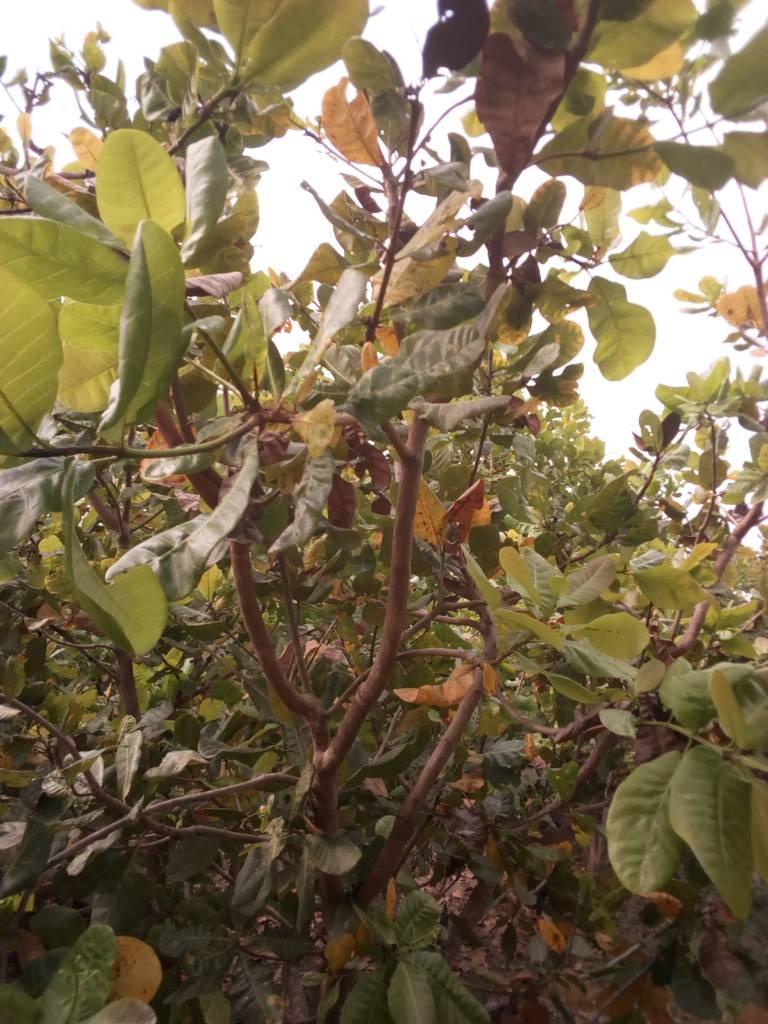Dessèchement des bourgeons: (643, 886, 755, 993)
